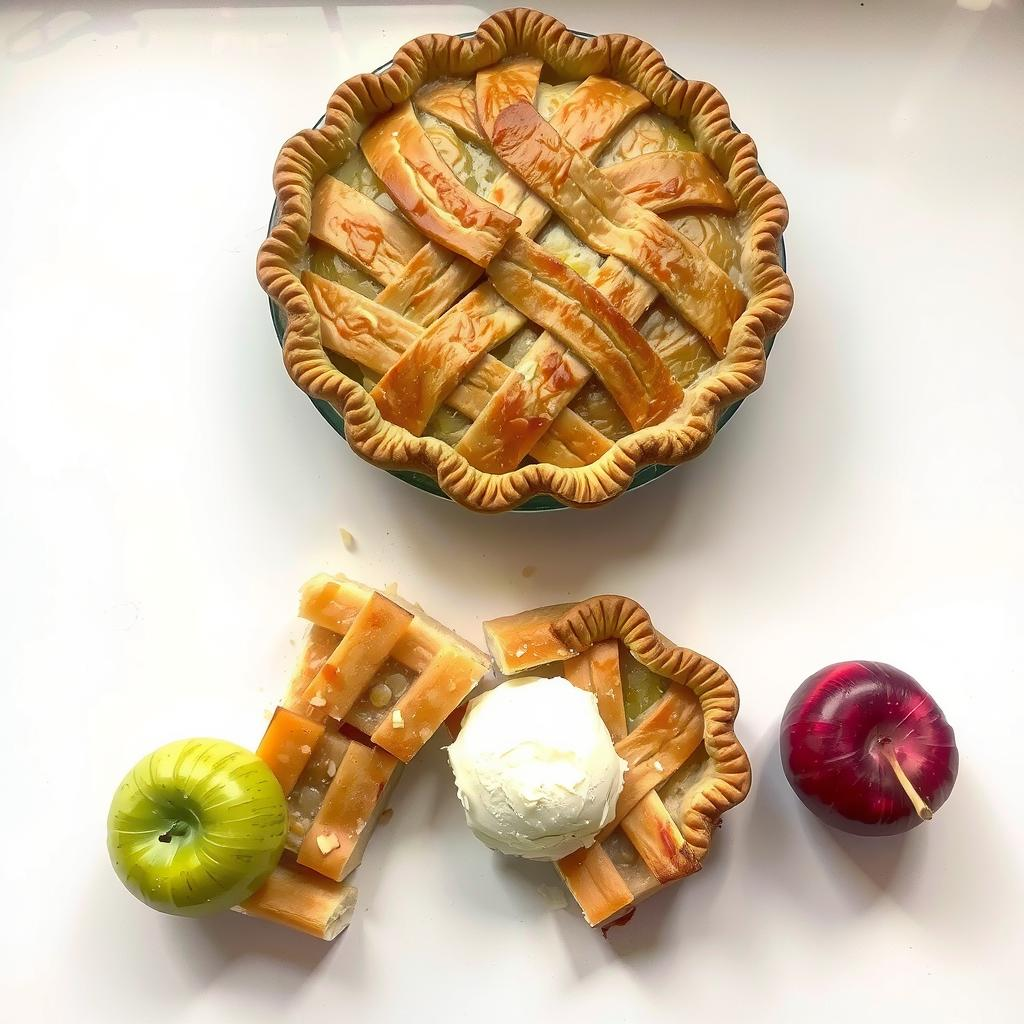cake: (241, 6, 813, 531)
